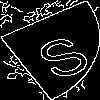S: (25, 25, 96, 82)
